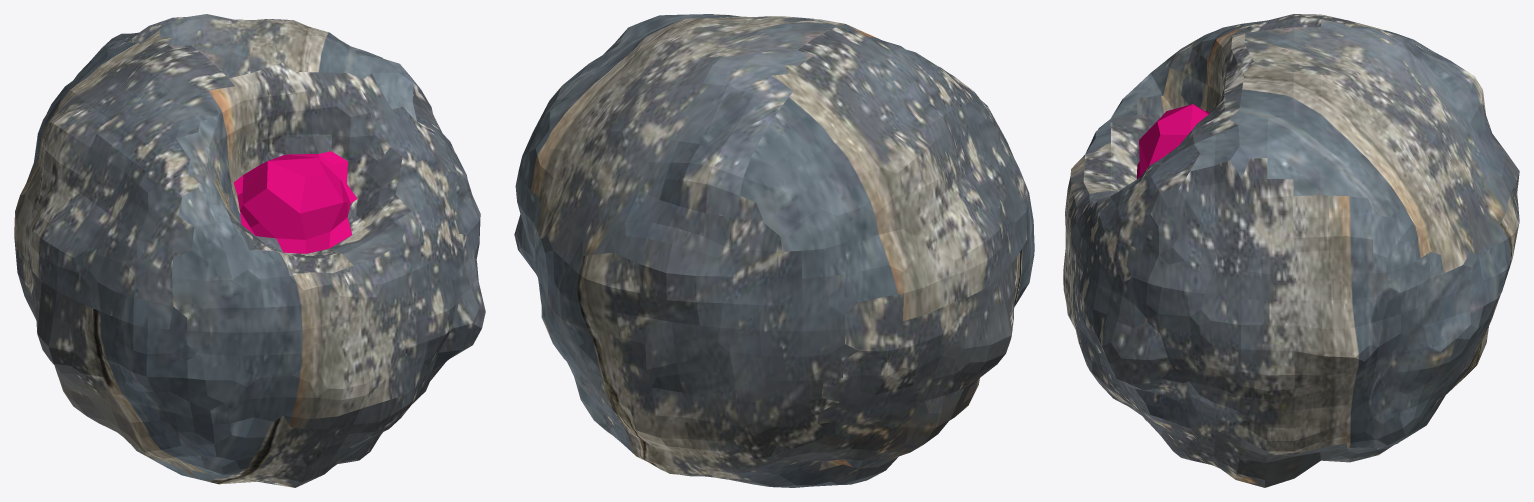
The model's file is geode.gltf.
3 renders of one model, left to right at view 1: azimuth 30°, elevation 25°; view 2: azimuth 150°, elevation 25°; view 3: azimuth 270°, elevation 25°, orthographic. The views are drawn at different scales.
Visible parts, largest first — view 1: Cube; view 2: Cube; view 3: Cube.
Boxes of the visible parts, x1,y1,x2,y2 form: Cube: [14, 14, 485, 487]; Cube: [514, 14, 1034, 487]; Cube: [1063, 14, 1519, 487].
Bounding box in the file's own units: 1.8 × 1.69 × 1.74.
Materials: 2 (1 with a texture image).
